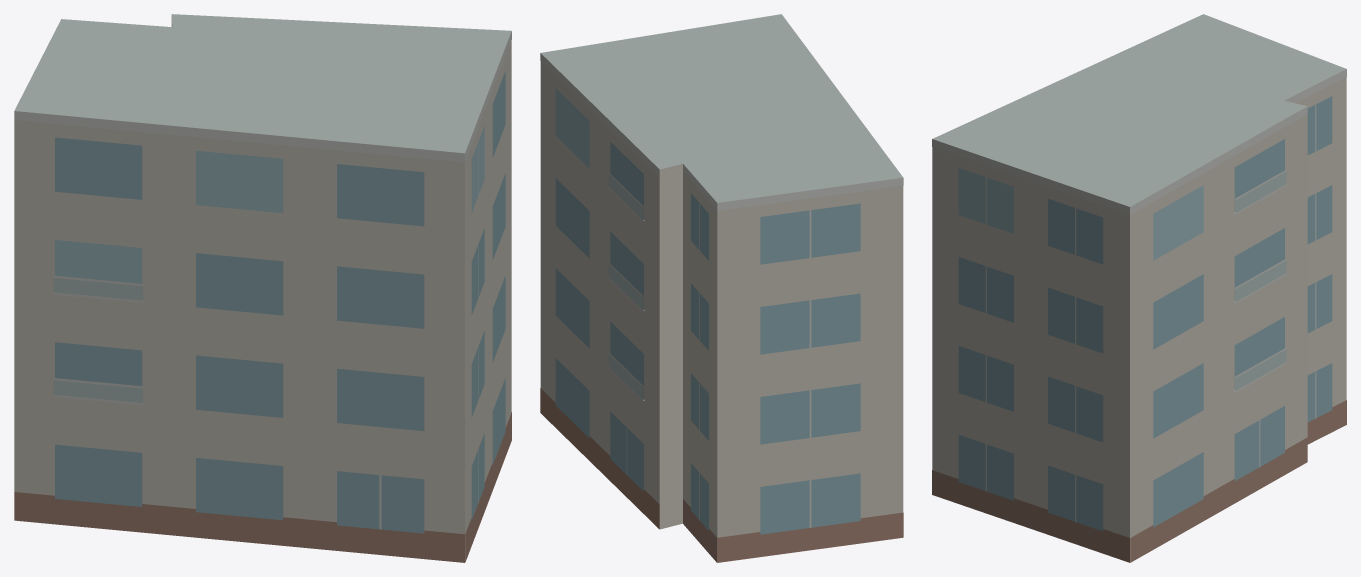
Rendered from survey-upis-32530337.glb.
The picture shows the model from 3 angles, left to right: view 1: azimuth 30°, elevation 25°; view 2: azimuth 150°, elevation 25°; view 3: azimuth 270°, elevation 25°; orthographic projection. The views are drawn at different scales.
Visible parts, largest first — view 1: survey-upis-32530337.tmp; view 2: survey-upis-32530337.tmp; view 3: survey-upis-32530337.tmp.
Boxes of the visible parts, x1,y1,x2,y2 form: survey-upis-32530337.tmp: (14,14,511,562); survey-upis-32530337.tmp: (540,14,903,562); survey-upis-32530337.tmp: (932,14,1346,562).
Size of the model in its own units: 12.81 by 11 by 11.62.
